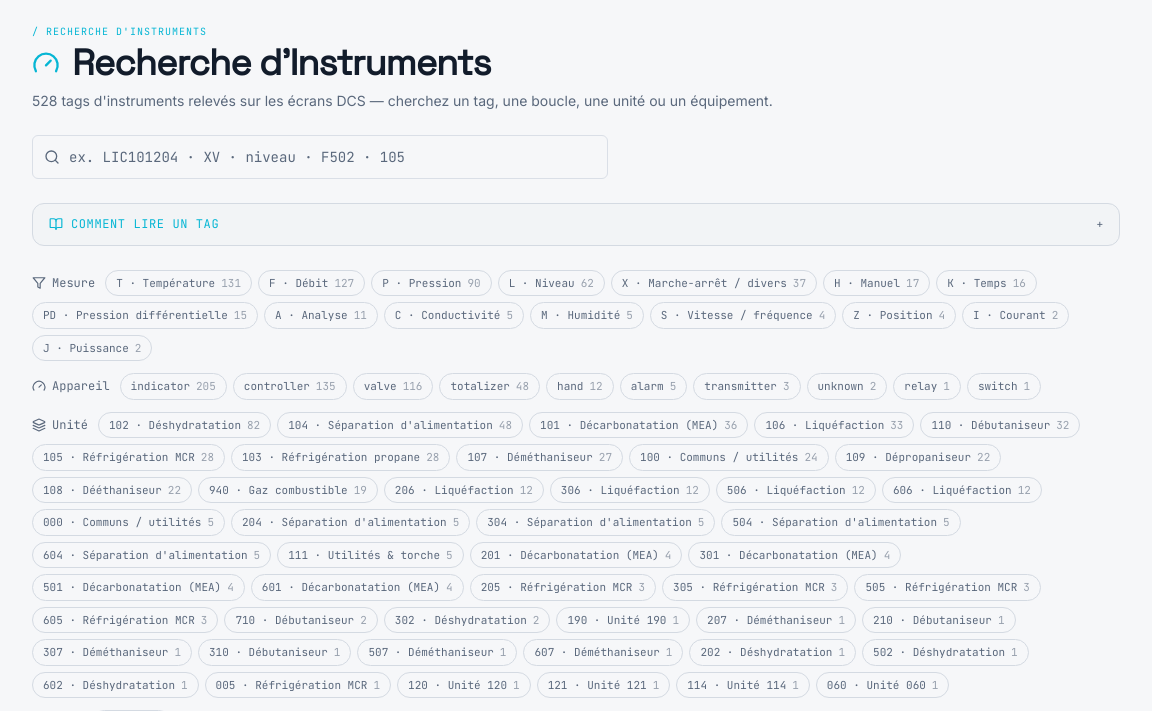
it: Instrument Finder › speaks French when the interface does
The width and height of the screenshot is (1152, 711).
In the field named "Rechercher des instruments": (320, 157) [32,135,608,179], type "LIC101204"
(page scrolled)
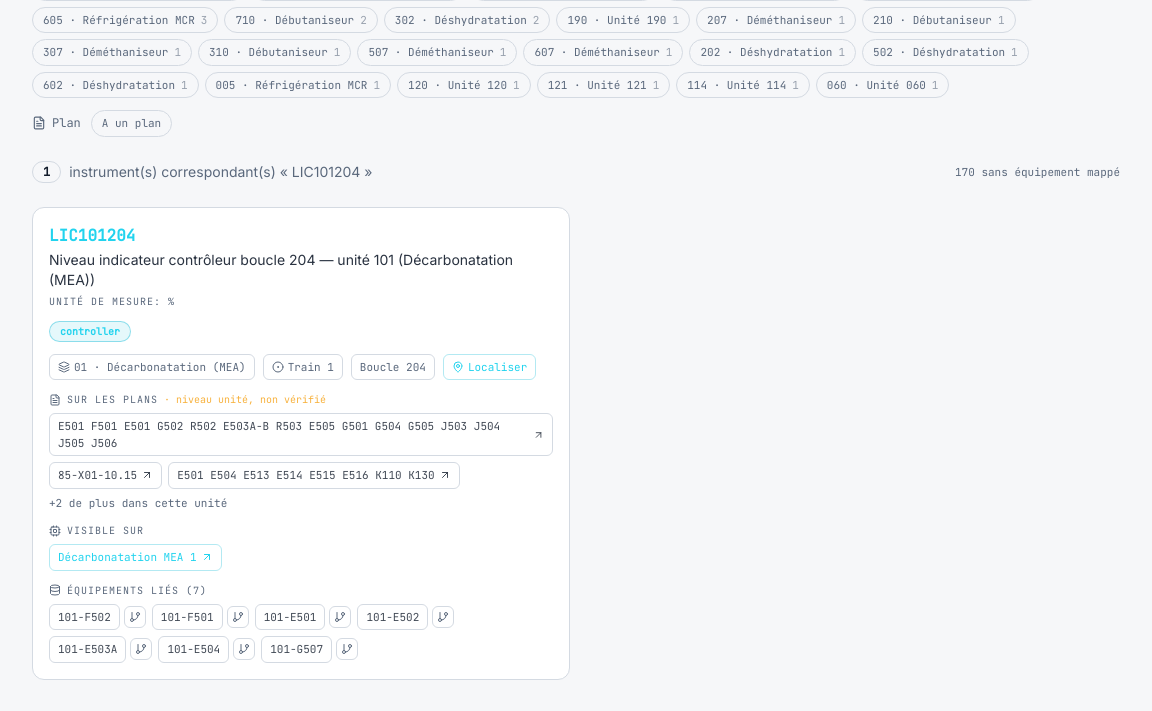
Expected: the text "01 · Décarbonatation (MEA)" is shown, [49,354,255,380]
Expected: the text "Niveau indicateur contrôleur" is shown, [49,250,513,288]
